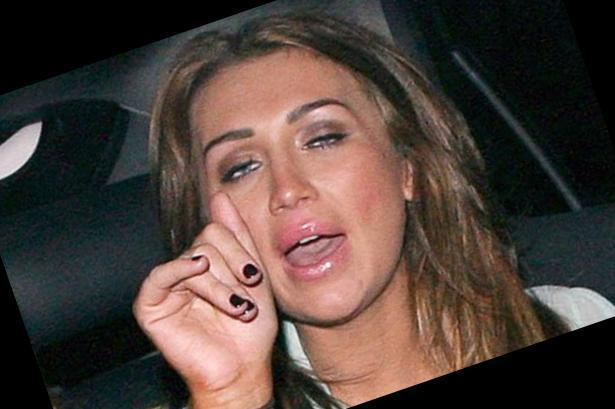Drunk: (191, 63, 395, 311)
